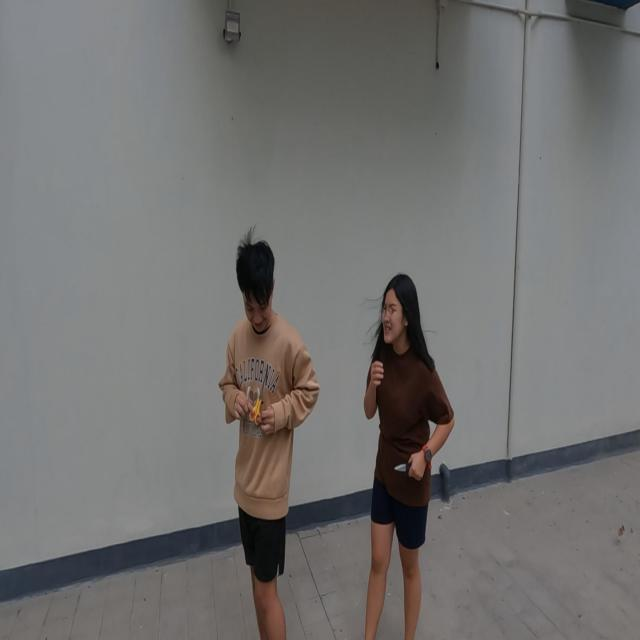scissor: (250, 370, 268, 425)
